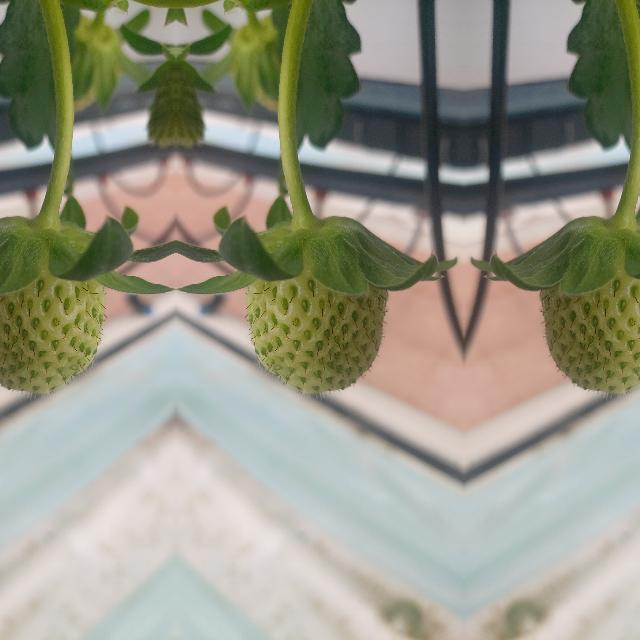Health_25: (245, 256, 387, 394), (0, 256, 105, 393), (539, 256, 640, 393)
